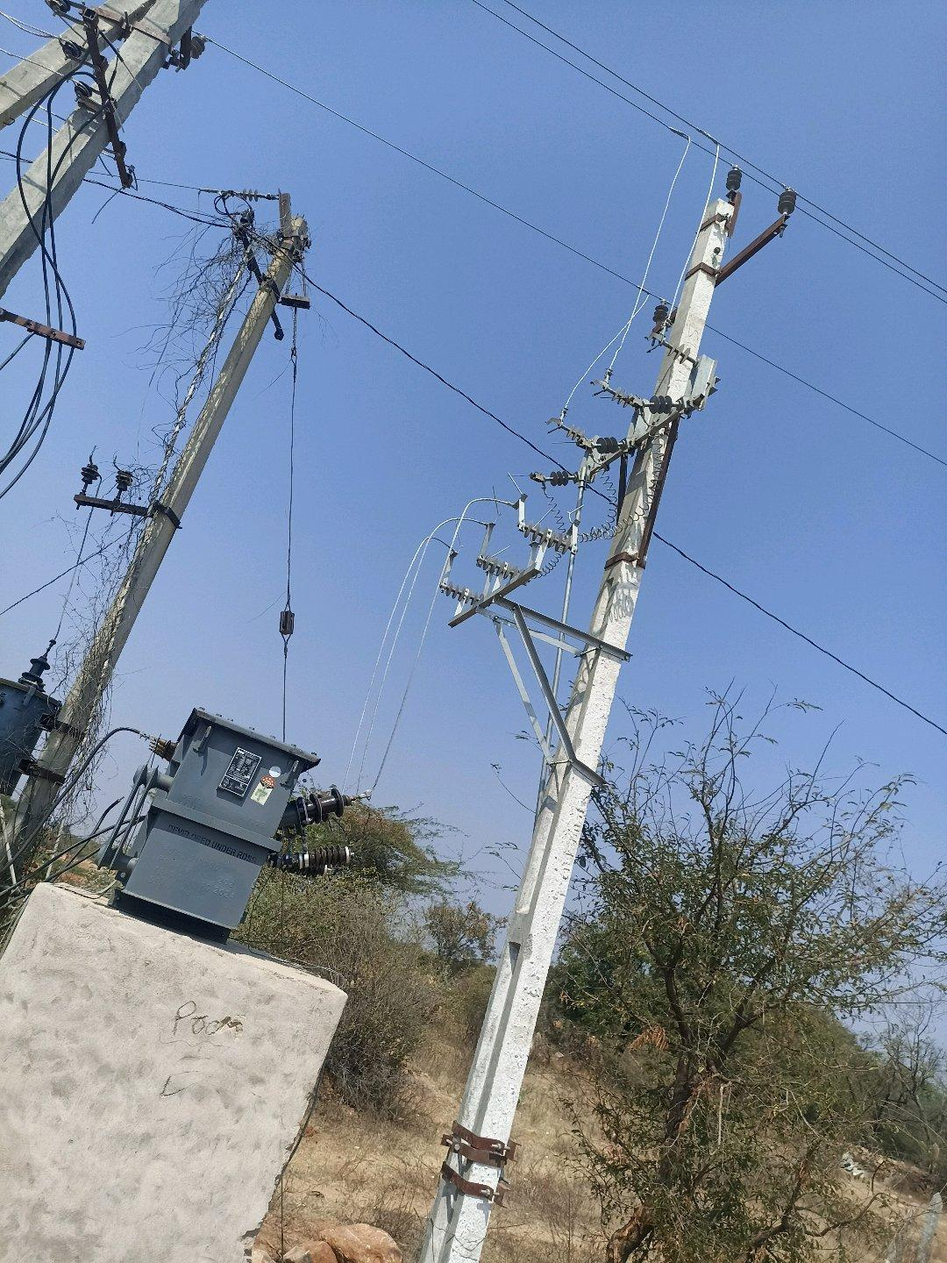{"0" "insulator", "1" "pole", "2" "crossarm", "3" "conductor", "4" "street_: (421, 168, 795, 1262), (12, 164, 309, 860), (531, 627, 563, 660), (509, 601, 530, 618), (509, 614, 514, 624), (541, 661, 545, 669), (511, 662, 513, 667), (572, 632, 575, 635), (532, 669, 534, 673), (515, 625, 516, 629), (503, 610, 507, 611)
